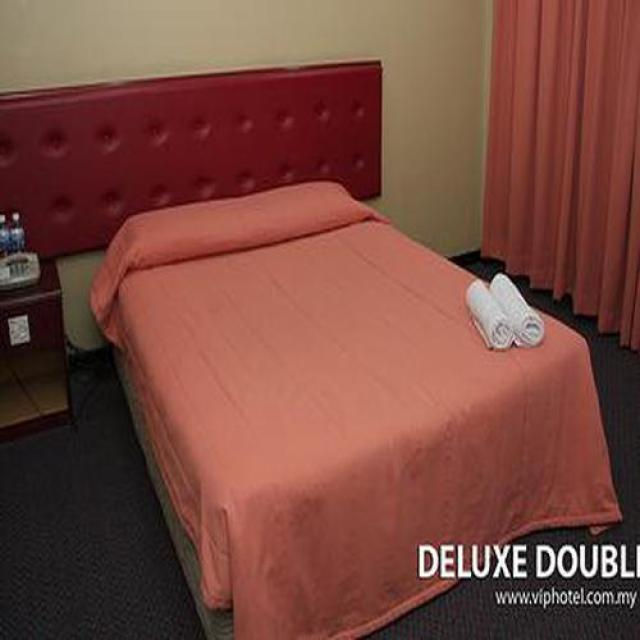bed: (88, 180, 625, 640)
